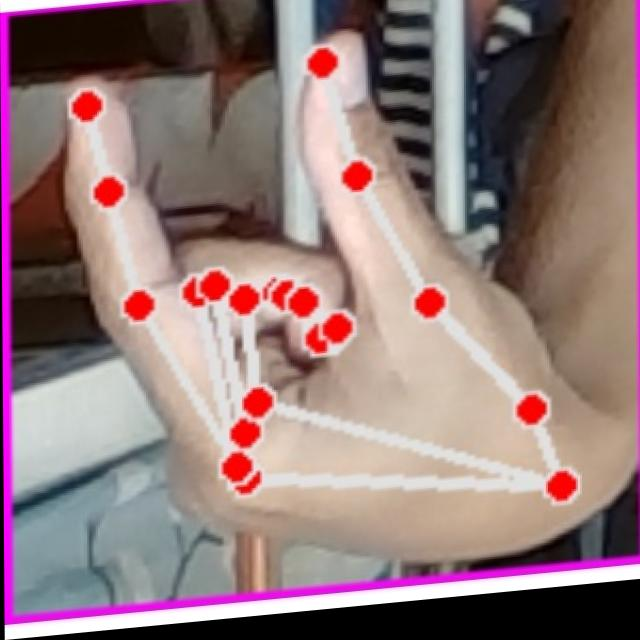Q: (50, 24, 601, 600)
